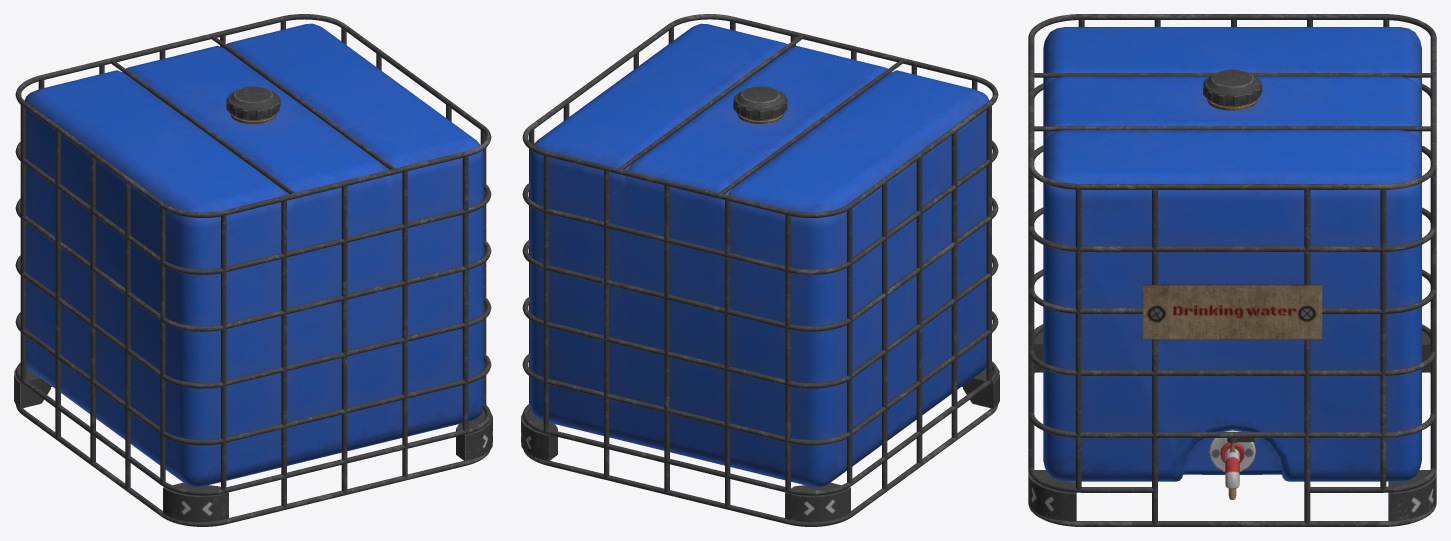
Rendered from water_container.obj.
3 renders of one model, left to right at view 1: azimuth 30°, elevation 25°; view 2: azimuth 150°, elevation 25°; view 3: azimuth 270°, elevation 25°, orthographic. The views are drawn at different scales.
Visible parts, largest first — view 1: water_container; view 2: water_container; view 3: water_container.
Part boxes in pixels (x1=…): water_container: x1=14, y1=14, x2=492, y2=526; water_container: x1=521, y1=14, x2=999, y2=526; water_container: x1=1028, y1=14, x2=1436, y2=526.
Size of the model in its own units: 4.11 by 3.99 by 4.06.
